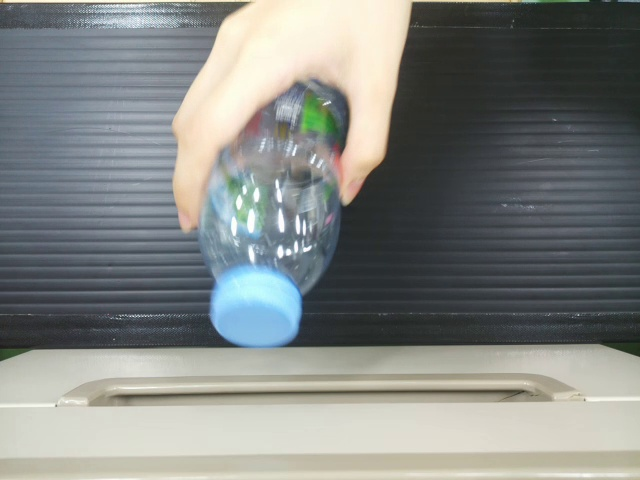bottle: (191, 70, 348, 347)
